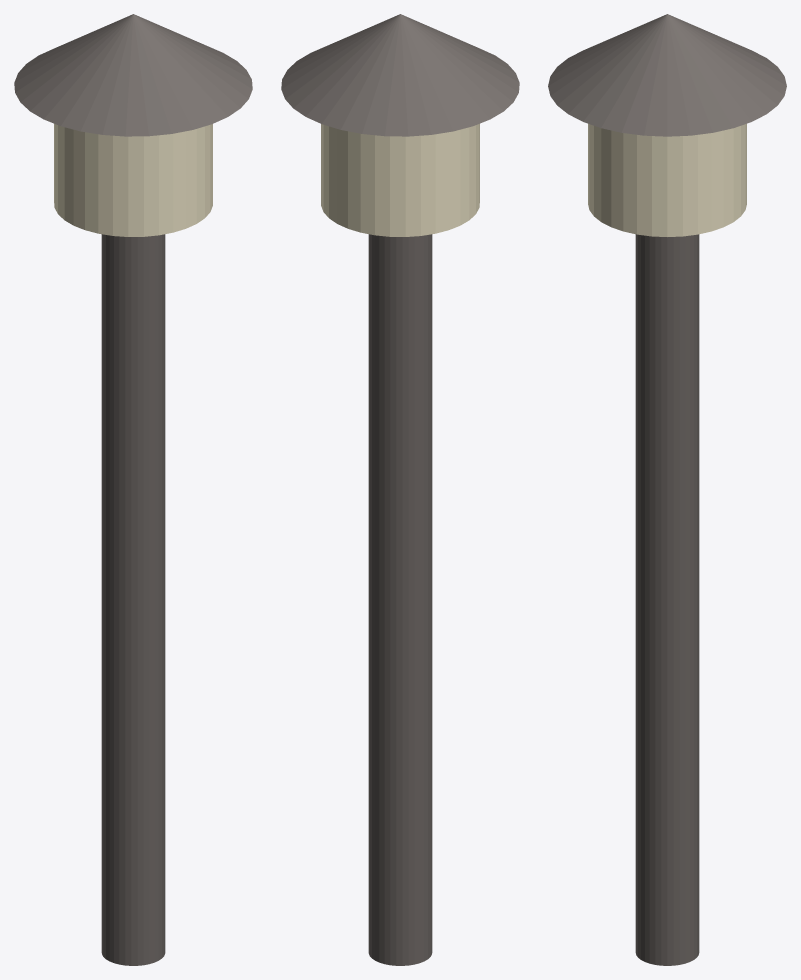
File: village_lantern.glb
3 renders of one model, left to right at view 1: azimuth 30°, elevation 25°; view 2: azimuth 150°, elevation 25°; view 3: azimuth 270°, elevation 25°, orthographic.
Parts seen in each view (by area): view 1: Cylinder, Cone, Cylinder.001; view 2: Cylinder, Cone, Cylinder.001; view 3: Cylinder, Cone, Cylinder.001.
Boxes of the visible parts, box(x1,y1,x2,y2) form: Cylinder: box(101, 234, 165, 965); Cone: box(14, 14, 252, 136); Cylinder.001: box(54, 123, 212, 236); Cylinder: box(368, 234, 432, 965); Cone: box(281, 14, 519, 136); Cylinder.001: box(321, 123, 479, 236); Cylinder: box(635, 234, 699, 965); Cone: box(548, 14, 786, 136); Cylinder.001: box(588, 123, 746, 236).
Size of the model in its own units: 0.6 by 2.6 by 0.6.
